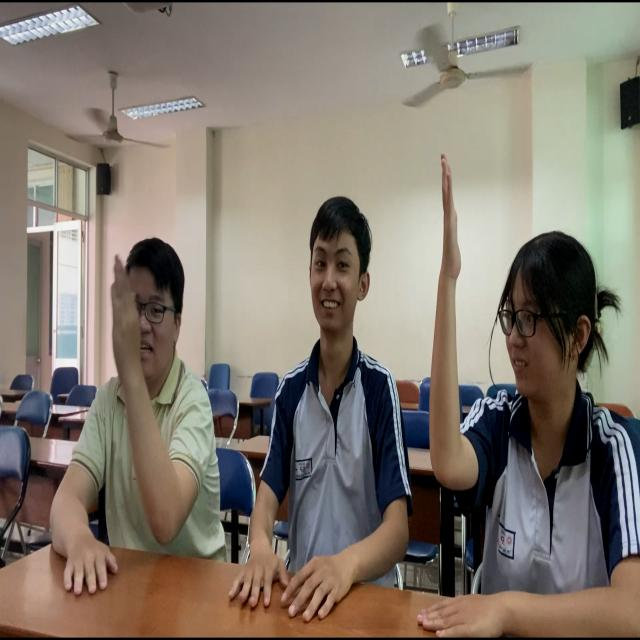raise_hand: (420, 142, 634, 625), (7, 228, 234, 579)
